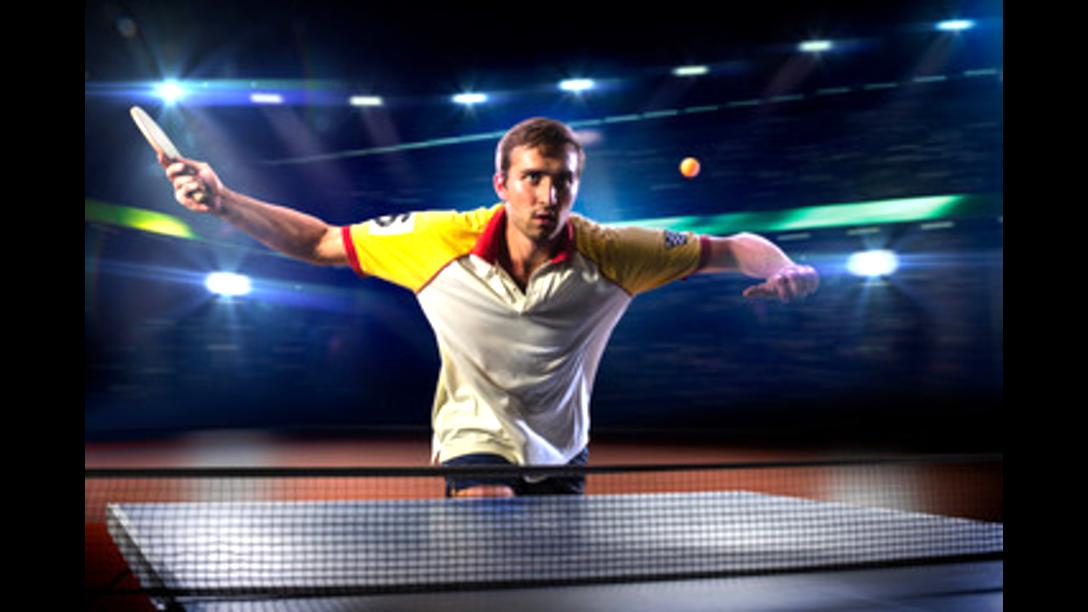Table-Tennis-Ball: (680, 158, 700, 176)
